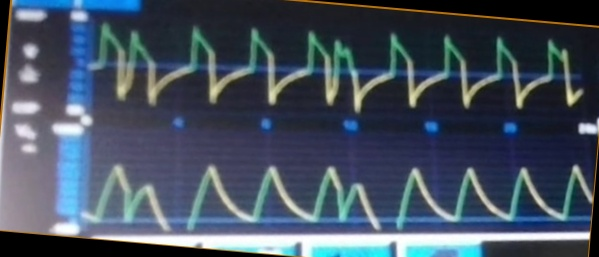Double_Triggering Flow: (94, 22, 575, 113)
Double_Triggering Volume: (87, 155, 562, 230)
